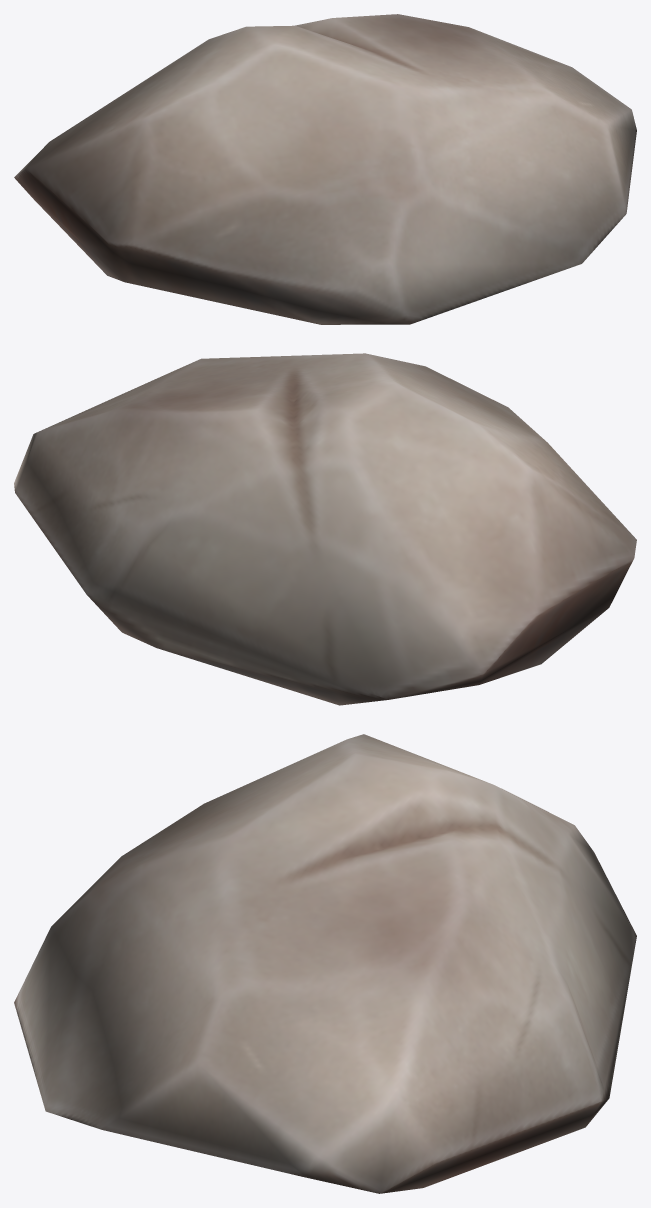
Rendered from SM_Gem_Iron_007.fbx.
3 views of the same model, one above another, from view 1: azimuth 30°, elevation 25°; view 2: azimuth 150°, elevation 25°; view 3: azimuth 270°, elevation 25° (orthographic). The views are drawn at different scales.
Parts seen in each view (by area): view 1: SM_Gem_Iron_007; view 2: SM_Gem_Iron_007; view 3: SM_Gem_Iron_007.
Boxes of the visible parts, box(x1,y1,x2,y2) form: SM_Gem_Iron_007: box(14, 14, 636, 324); SM_Gem_Iron_007: box(14, 353, 636, 705); SM_Gem_Iron_007: box(14, 734, 636, 1193).
Size of the model in its own units: 39.68 by 15.2 by 30.3.
